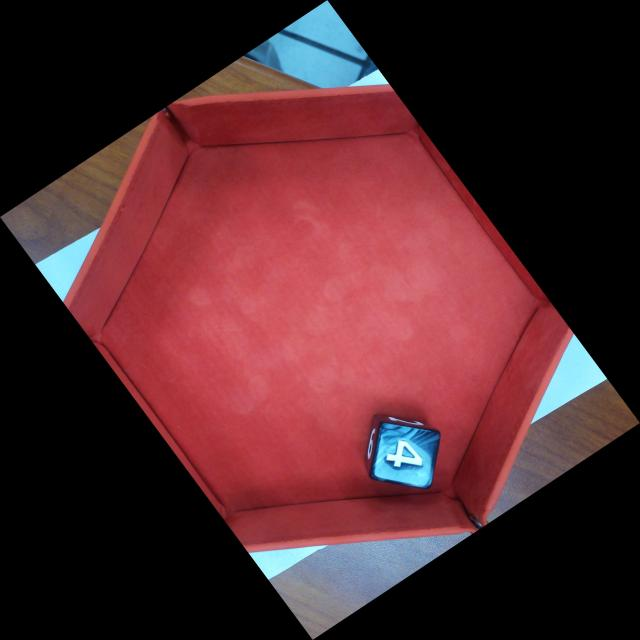dice: (368, 420, 442, 491)
